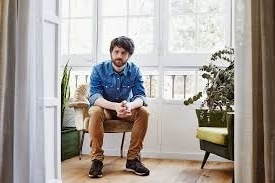not_fallen: (82, 35, 166, 179)
